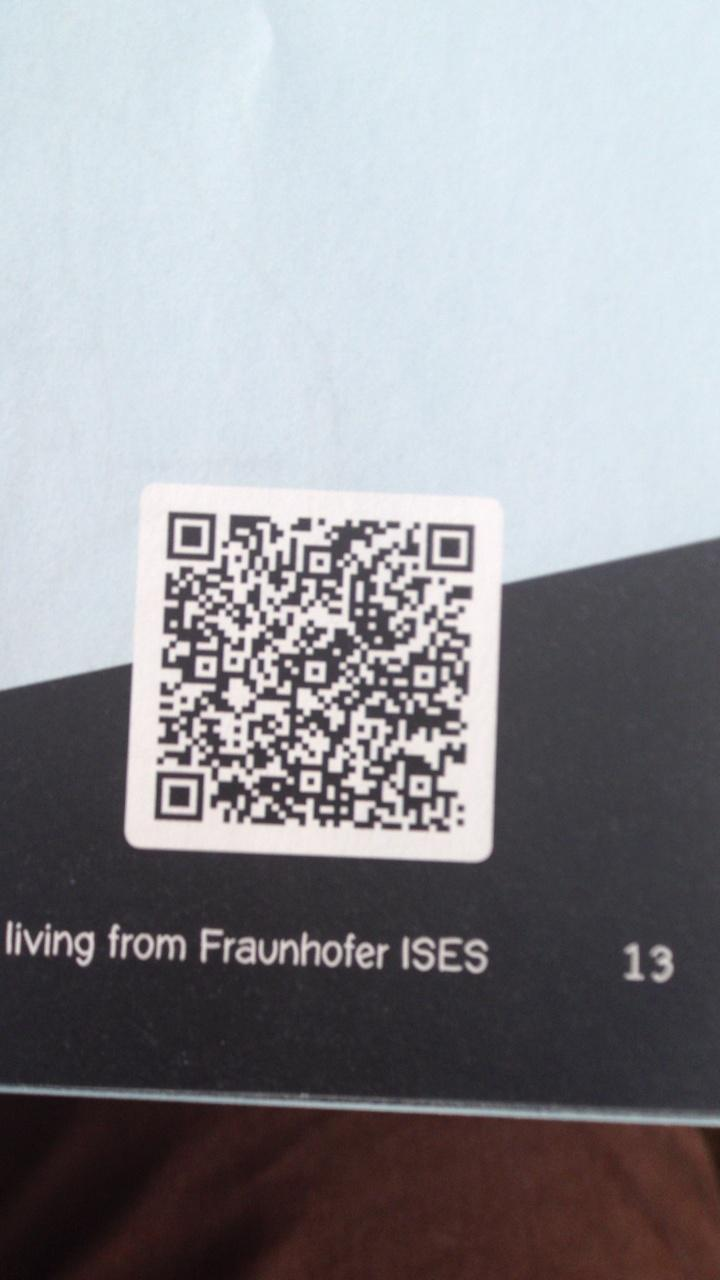qr_code: (154, 512, 475, 833)
